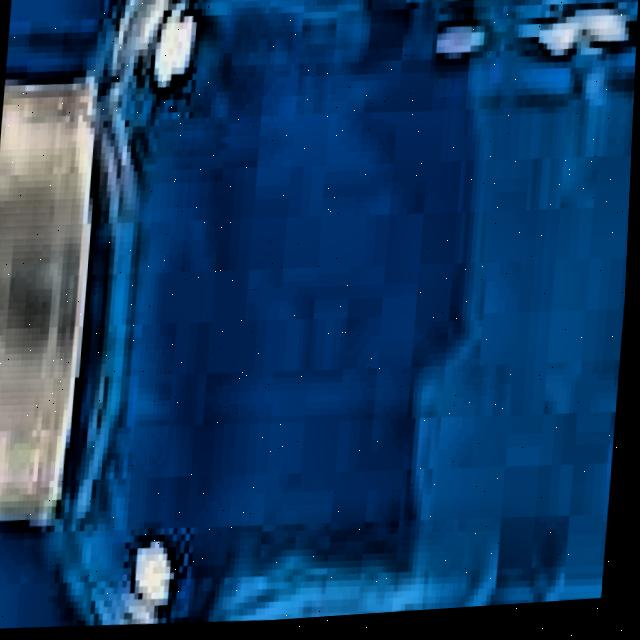glass: (0, 0, 639, 627)
